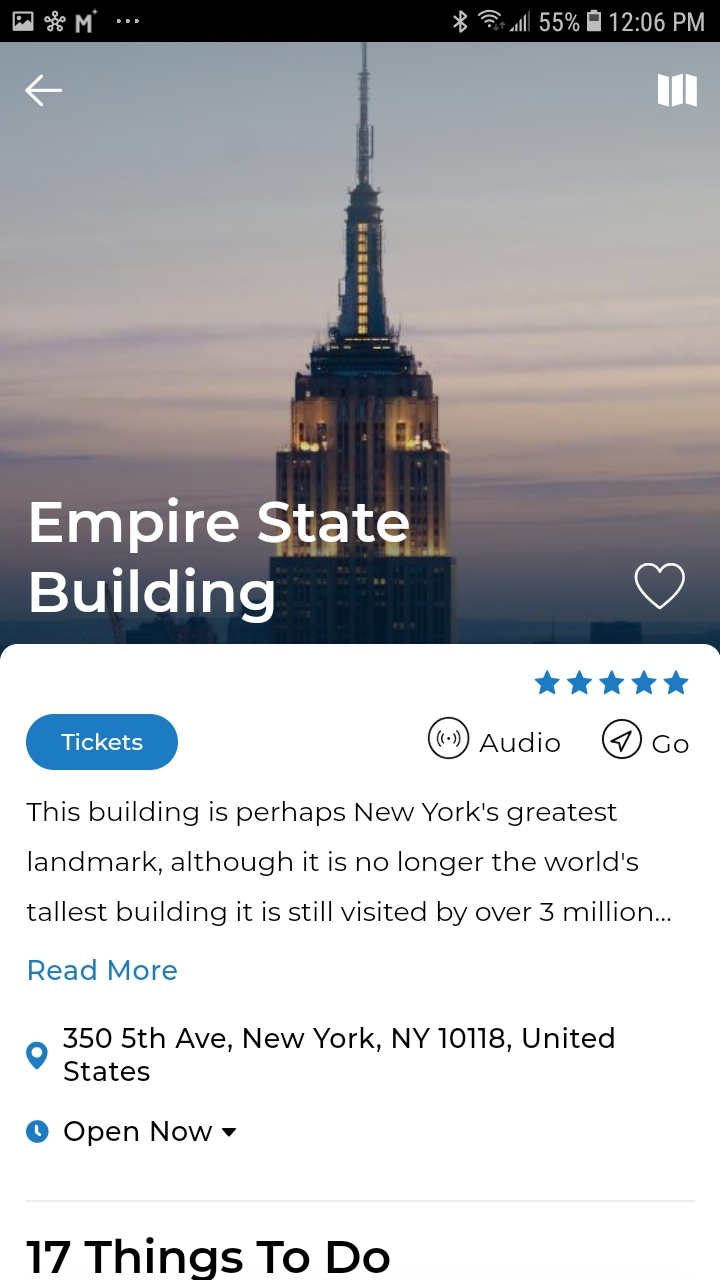Icon: (534, 670, 689, 696), (635, 564, 686, 609), (602, 719, 643, 760), (657, 74, 698, 109), (26, 75, 63, 107), (26, 1041, 49, 1071), (26, 1120, 50, 1144), (222, 1127, 238, 1138)
Image: (1, 43, 719, 645), (428, 716, 471, 760)
Text: (26, 800, 671, 927), (32, 498, 409, 623), (63, 1026, 615, 1082), (26, 1237, 391, 1280), (64, 1121, 213, 1147), (29, 959, 178, 980), (479, 731, 561, 753), (652, 734, 689, 754)
TextButton: (27, 713, 180, 771)
UpperTaskBar: (1, 1, 720, 43)
